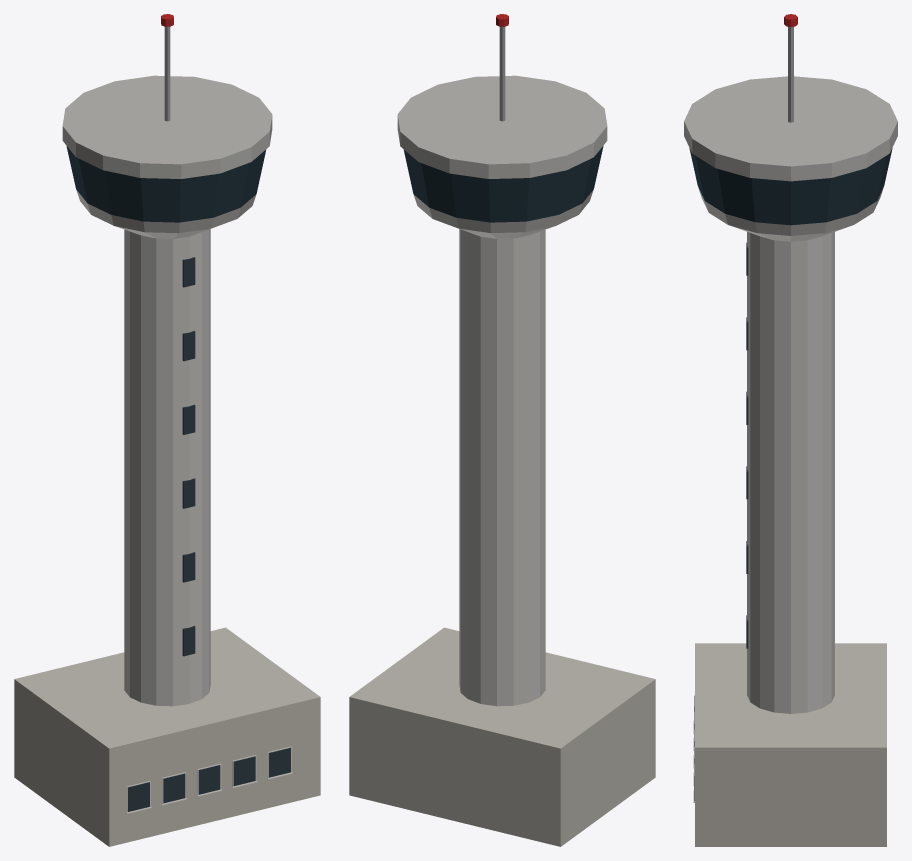
File: ns_tower.glb
The picture shows the model from 3 angles, left to right: view 1: azimuth 30°, elevation 25°; view 2: azimuth 150°, elevation 25°; view 3: azimuth 270°, elevation 25°; orthographic projection.
Visible parts, largest first — view 1: ns_tower; view 2: ns_tower; view 3: ns_tower.
Part boxes in pixels (x1,y1,x2,y2): ns_tower: [14, 14, 320, 846]; ns_tower: [349, 14, 655, 846]; ns_tower: [684, 14, 897, 846].
Bounding box in the file's own units: 18 × 62.6 × 15.6.
